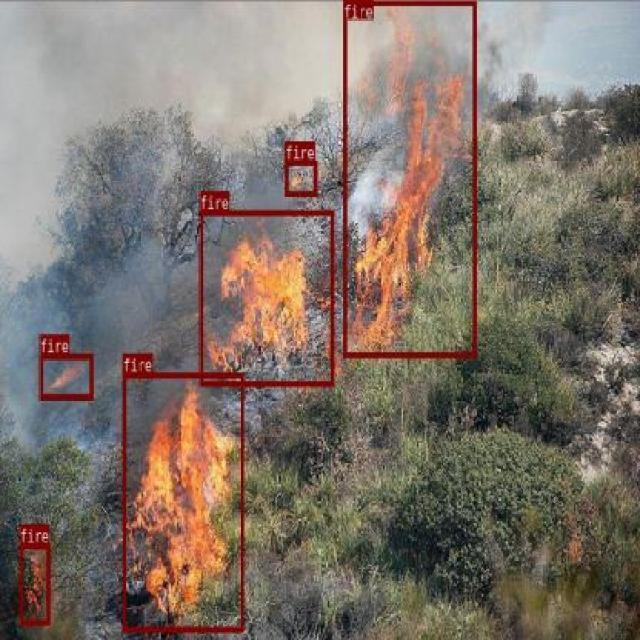Fire: (341, 0, 475, 355), (122, 373, 242, 632), (199, 209, 333, 386), (19, 544, 50, 626), (38, 354, 92, 398), (284, 159, 318, 196)
